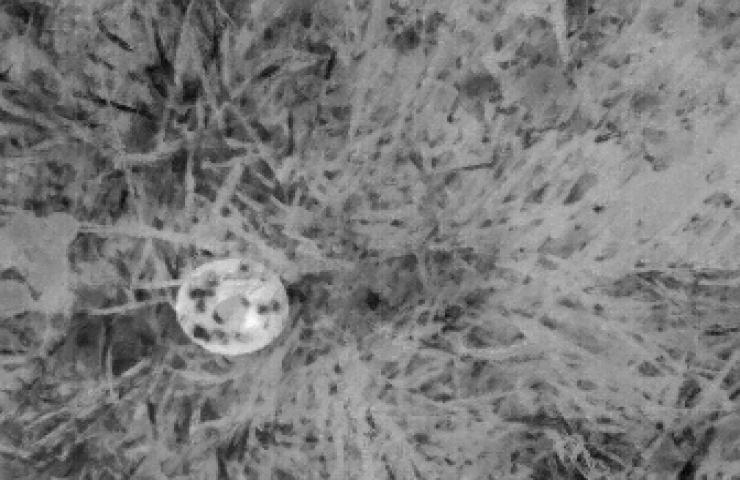landmines: (170, 253, 296, 359)
